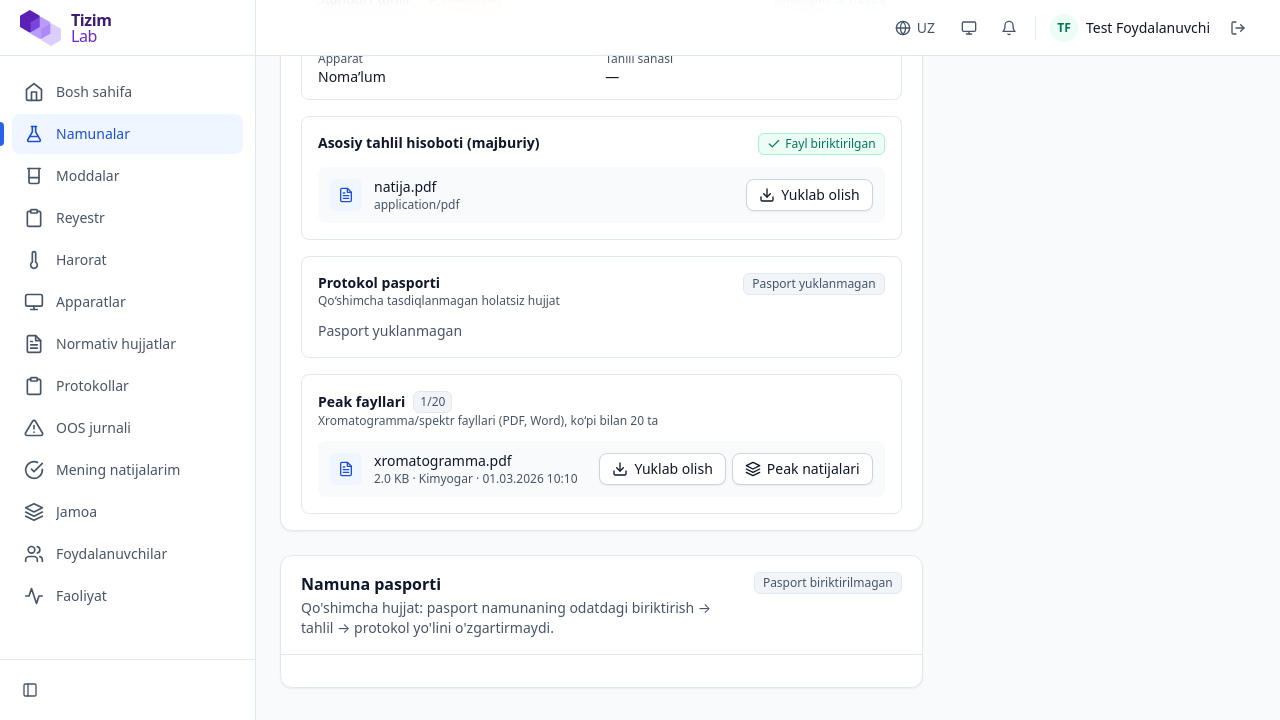
Scenario: P19: protokol kartasidan OOS ochish va peak natijalari › direktor: "OOS ochish" yo‘q, lekin peak natijalarini ko‘ra oladi
This screenshot has width=1280, height=720.
(page scrolled)
Click the button "Peak natijalari" at (802, 469), box 732,453 -> 873,485
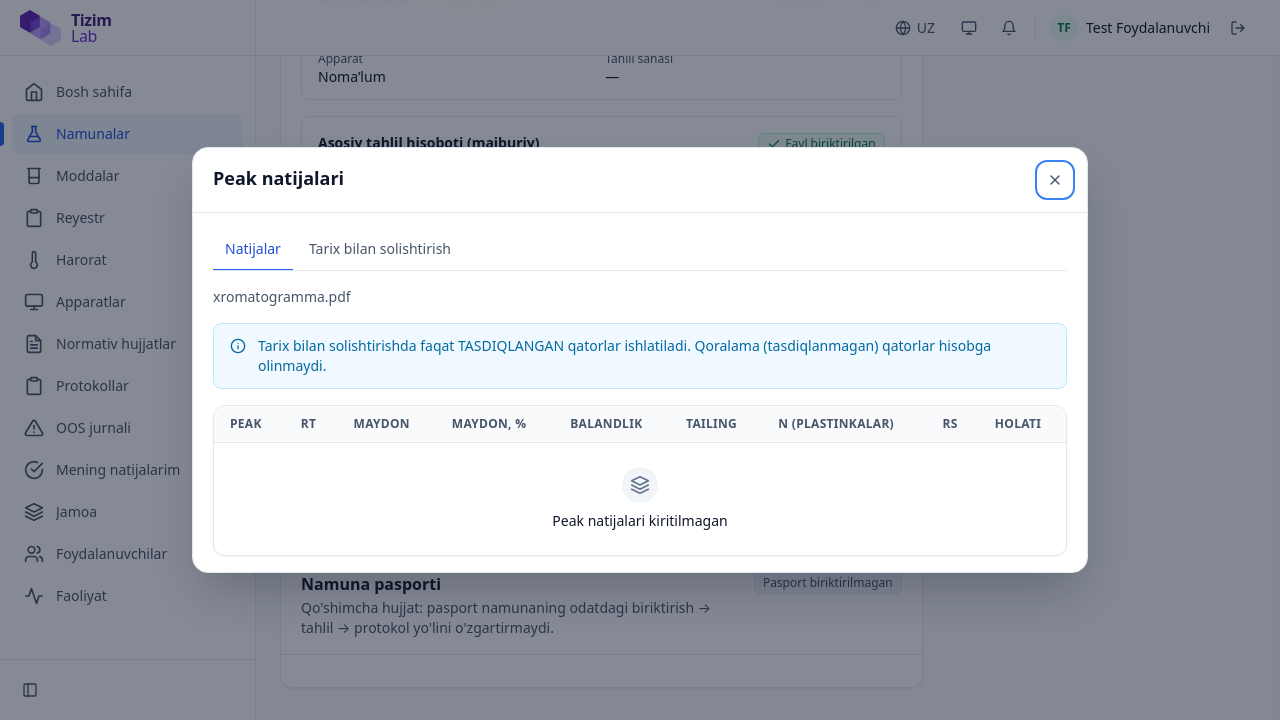
Result: the dialog "Peak natijalari" is shown at 192,147 -> 1088,573
